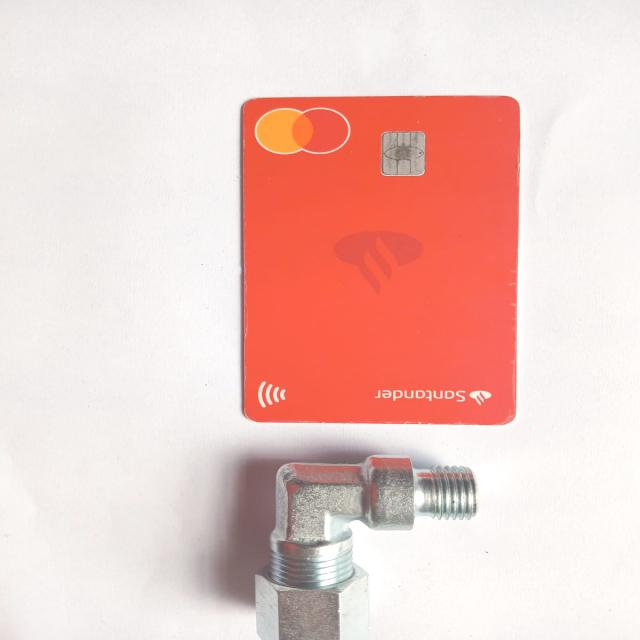cartao: (242, 96, 520, 425)
rosca_externa: (256, 453, 479, 640)
